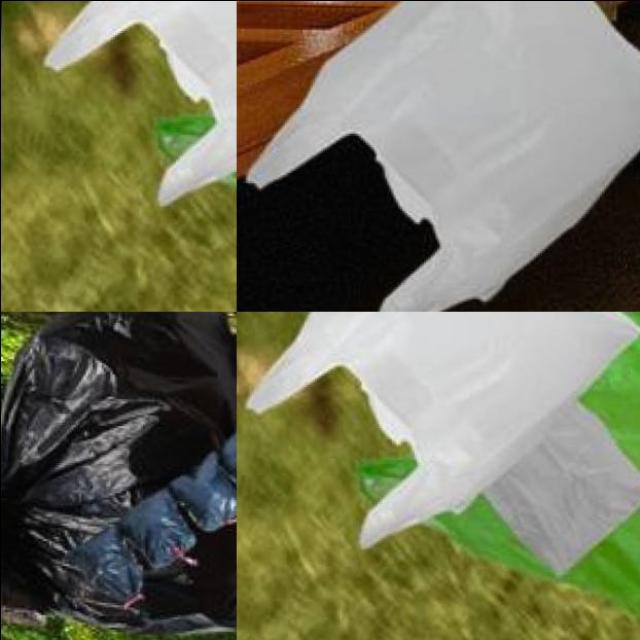plastik: (246, 0, 640, 309), (247, 312, 636, 546), (0, 313, 234, 632), (44, 0, 236, 205), (236, 0, 396, 175), (484, 398, 640, 574), (432, 495, 640, 617), (580, 335, 640, 468)
